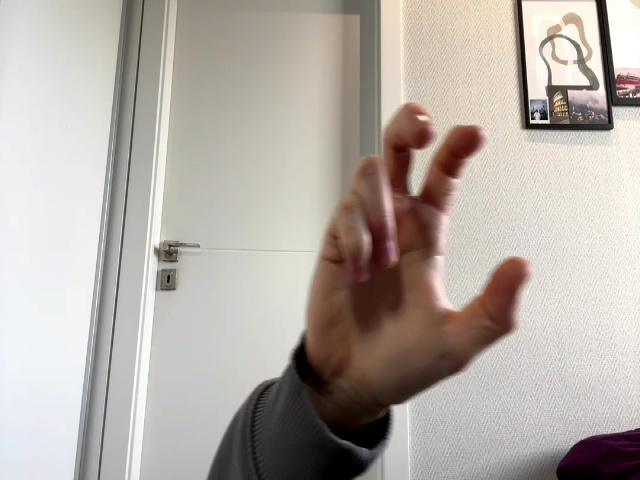CH: (304, 104, 532, 398)
